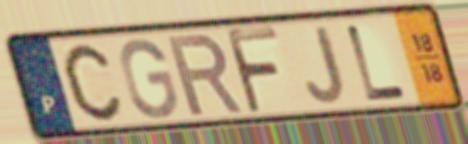C: (60, 41, 125, 124)
F: (221, 25, 285, 117)
G: (116, 35, 181, 121)
J: (302, 24, 348, 107)
L: (343, 22, 411, 104)
R: (163, 31, 247, 119)
